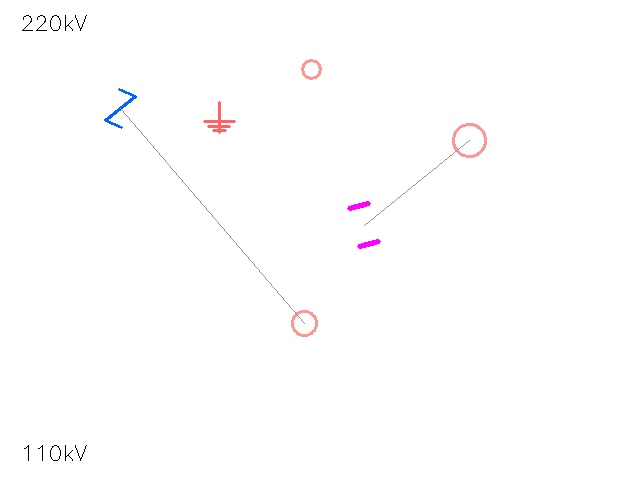capacitor: (331, 192, 397, 258)
circuit_breaker: (101, 89, 139, 127)
current_transformer: (436, 107, 502, 173), (279, 298, 329, 348)
disconnect_switch: (293, 51, 329, 87)
ground: (204, 102, 234, 132)
